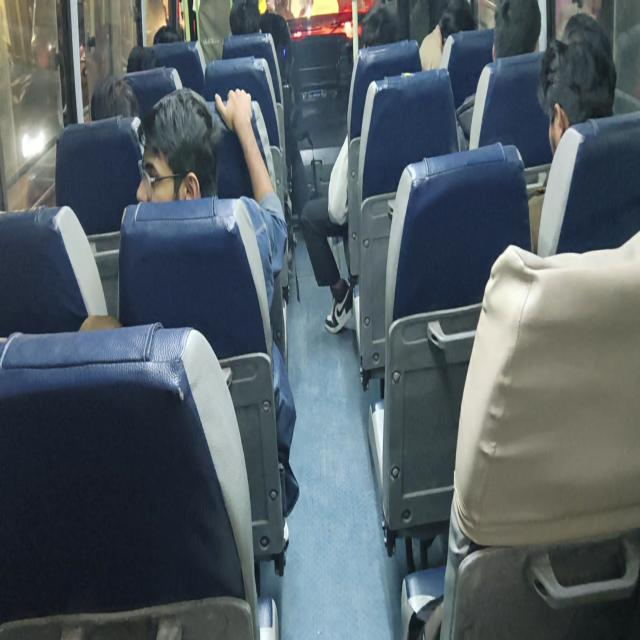person: (79, 84, 299, 546), (525, 12, 617, 252), (455, 0, 541, 149), (536, 36, 616, 157), (90, 74, 140, 120)
